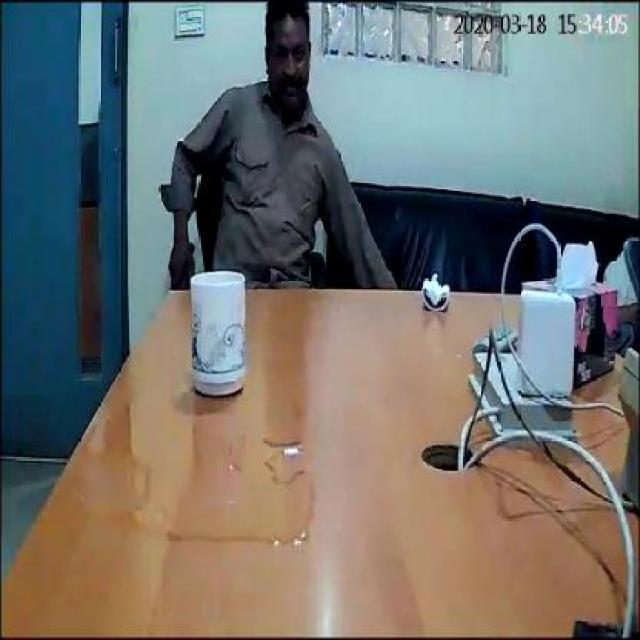spill: (90, 404, 318, 552)
